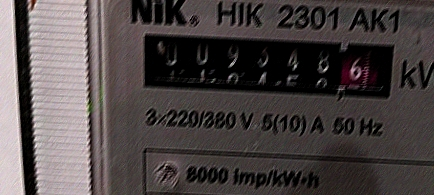0: (193, 39, 209, 63), (163, 38, 177, 64)
3: (254, 41, 269, 68)
4: (284, 42, 299, 70)
6: (345, 52, 363, 80)
8: (313, 45, 330, 73)
9: (223, 41, 239, 67)
screen: (130, 24, 402, 106)
